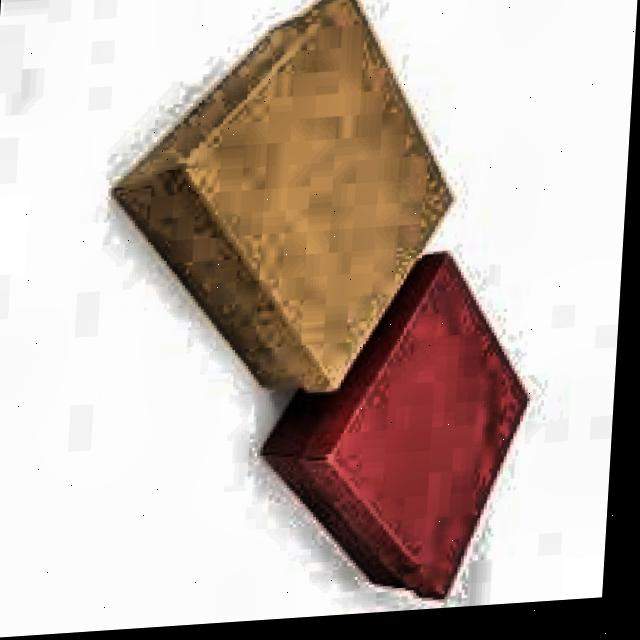cardboard: (97, 0, 474, 417), (245, 245, 547, 612)
